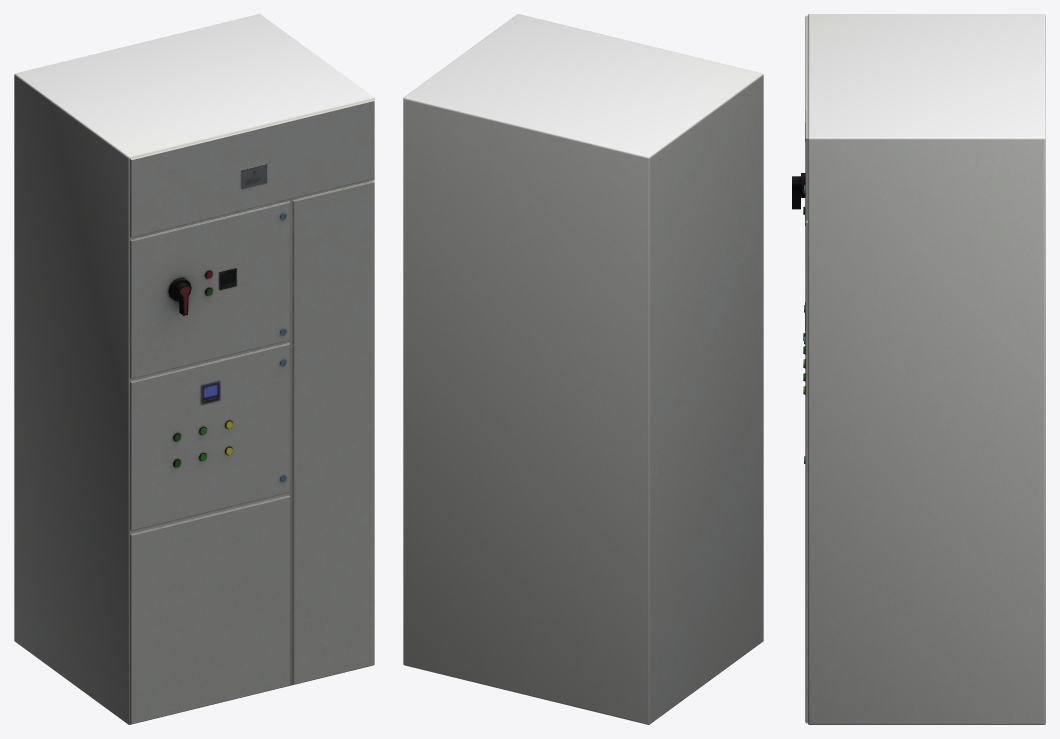
The model's file is pdc-100-2.obj.
3 views of the same model, side by side, from view 1: azimuth 30°, elevation 25°; view 2: azimuth 150°, elevation 25°; view 3: azimuth 270°, elevation 25° (orthographic). The views are drawn at different scales.
Parts seen in each view (by area): view 1: ChamferBox20; view 2: ChamferBox20; view 3: ChamferBox20.
Part boxes in pixels (<box>): ChamferBox20: <box>14,14,374,724</box>; ChamferBox20: <box>403,14,763,724</box>; ChamferBox20: <box>792,14,1045,724</box>.
Bounding box in the file's own units: 100 × 220 × 86.13.
